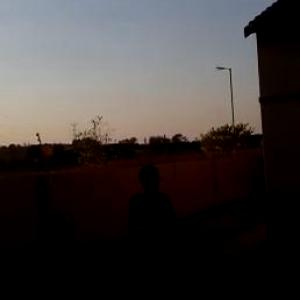follow: (121, 162, 178, 299)
